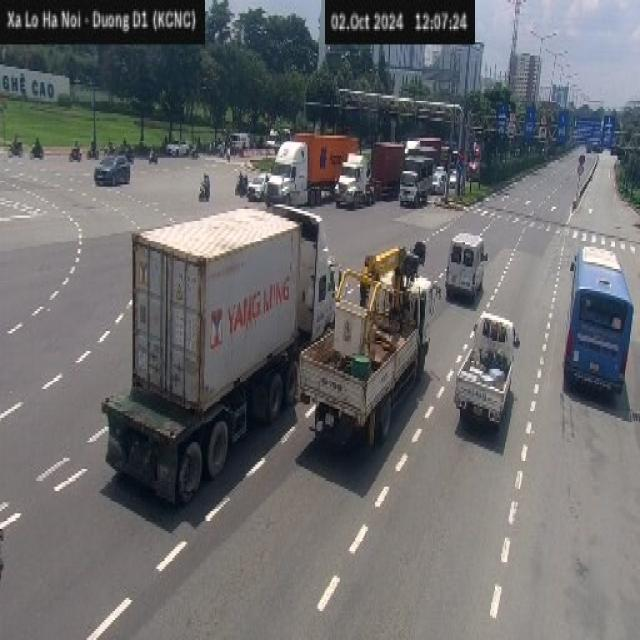bus: (562, 244, 634, 396)
car: (92, 153, 130, 184)
container-truck: (100, 202, 336, 504), (262, 135, 370, 194), (336, 141, 403, 210)
truck: (298, 242, 440, 451), (452, 314, 526, 428), (402, 156, 433, 211)
